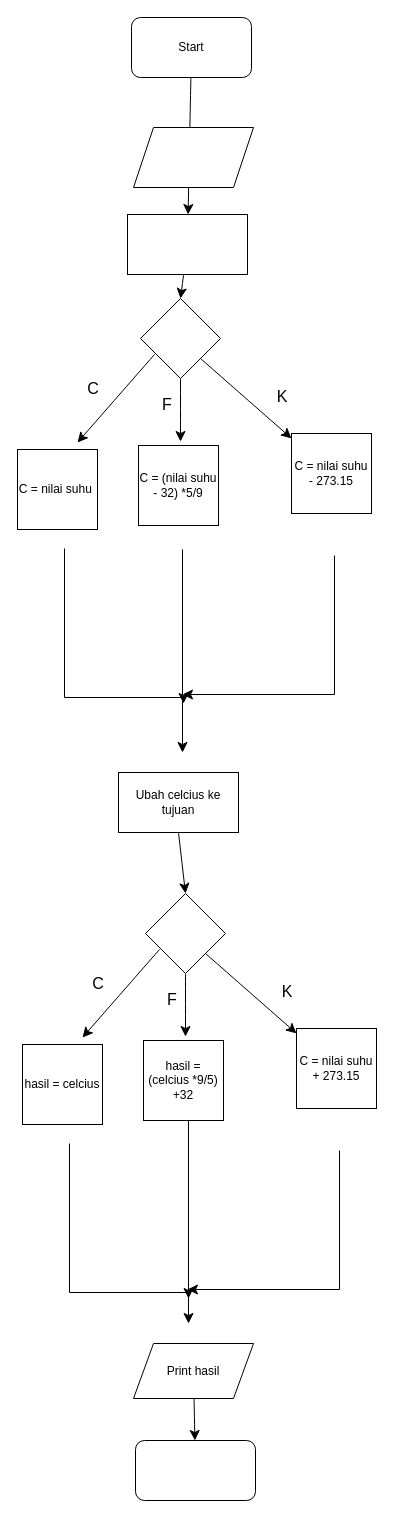
This 394x1518 diagram has some shape labels left out. The shapes that lost their labels are listed below. From the top down, each one's box as (x1, y1, x2, y2) in pixels, then its label:
(132, 126, 254, 188): Input nilai suhu, unit asal (C/F/K), unit tujuan (C/F/K)
(126, 214, 248, 274): Ubah ke C
(140, 298, 220, 378): Asal?
(144, 892, 226, 974): Tujuan?
(134, 1440, 256, 1500): Finish
